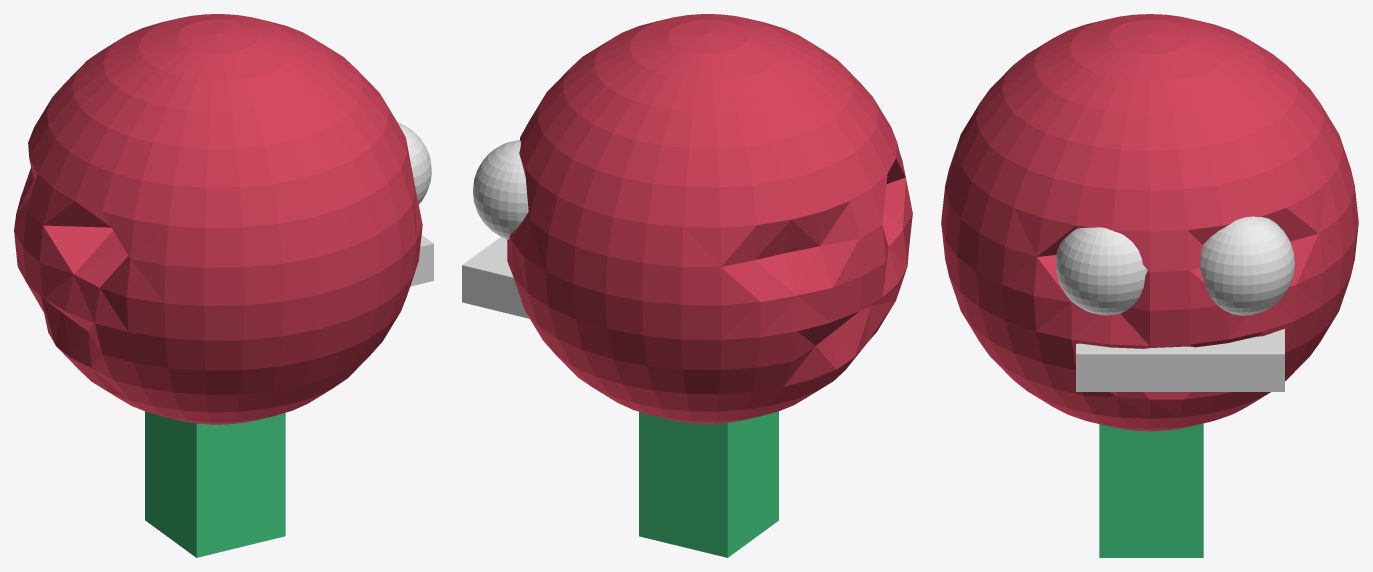
3 renders of one model, left to right at view 1: azimuth 30°, elevation 25°; view 2: azimuth 150°, elevation 25°; view 3: azimuth 270°, elevation 25°, orthographic.
Parts seen in each view (by area): view 1: Sphere, Cube_001, Cube; view 2: Sphere, Cube_001, Cube; view 3: Sphere, Cube, Cube_001.
Boxes of the visible parts, box(x1,y1,x2,y2) form: Sphere: box(14, 14, 422, 424); Cube_001: box(145, 411, 285, 557); Cube: box(397, 122, 433, 286); Sphere: box(507, 14, 912, 423); Cube_001: box(639, 411, 778, 557); Cube: box(462, 140, 529, 318); Sphere: box(941, 14, 1358, 431); Cube: box(1055, 216, 1294, 391); Cube_001: box(1099, 423, 1203, 557).
Bounding box in the file's own units: 2.05 × 2 × 2.66.
